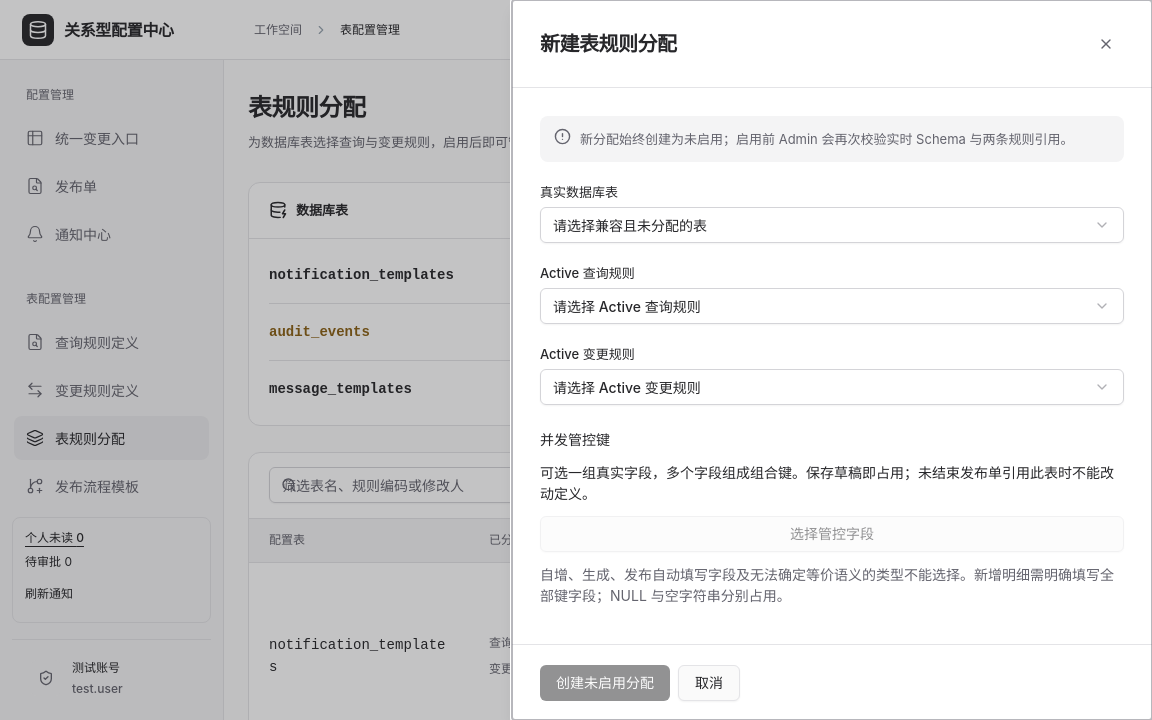
Test: 表规则分配页面 › 只从兼容未分配表和 Active Policy 创建 disabled 分配
Expected: the heading "新建表规则分配" is shown, [540, 30, 676, 58]
Select "message_templates · 消息模板" in the dropdown labelled "真实数据库表" at {"x": 832, "y": 225}, box [540, 207, 1124, 243]
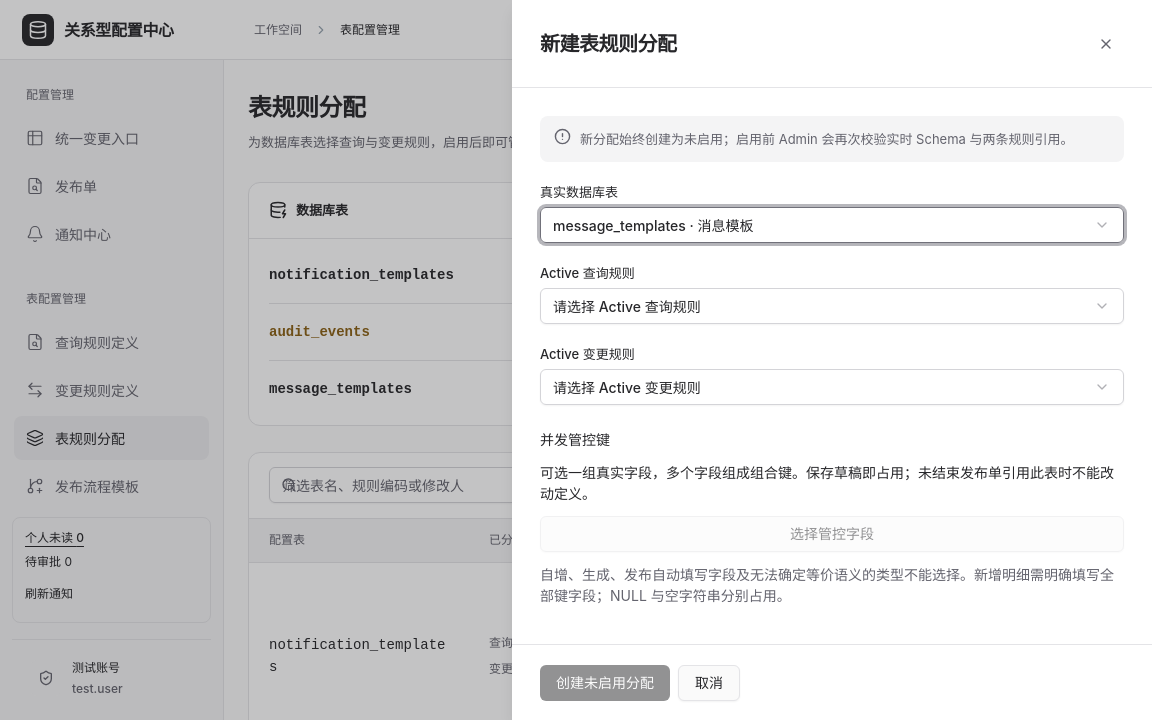
Select "standard_page_query_v1 · 标准分页" in the dropdown labelled "Active 查询规则" at {"x": 832, "y": 306}, box [540, 288, 1124, 324]
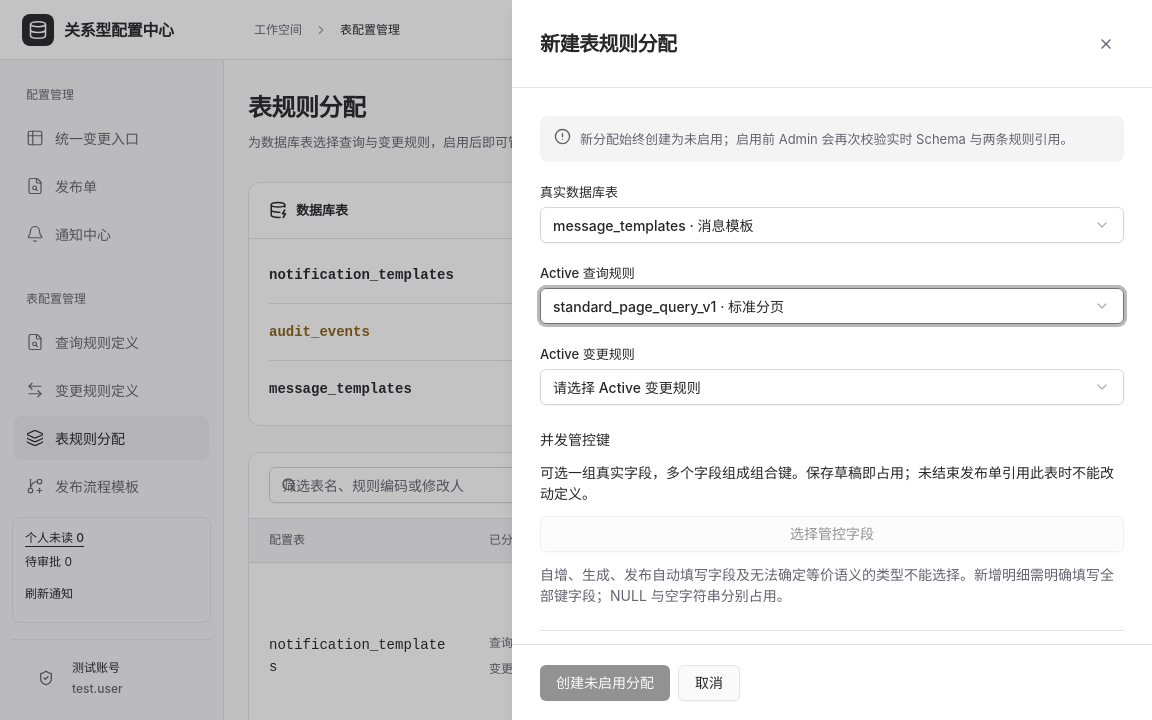
Select "standard_mutation_v1 · 标准变更" in the dropdown labelled "Active 变更规则" at {"x": 832, "y": 387}, box [540, 369, 1124, 405]
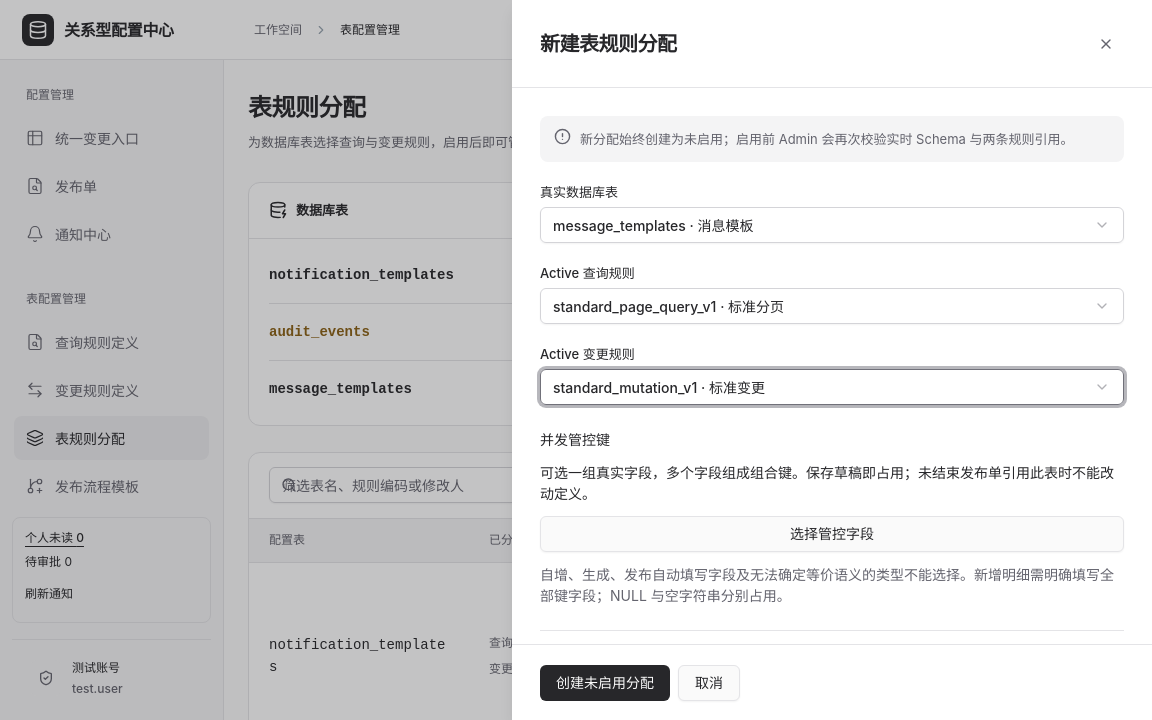
Click the button "创建未启用分配" at {"x": 605, "y": 682}, box [540, 664, 670, 700]
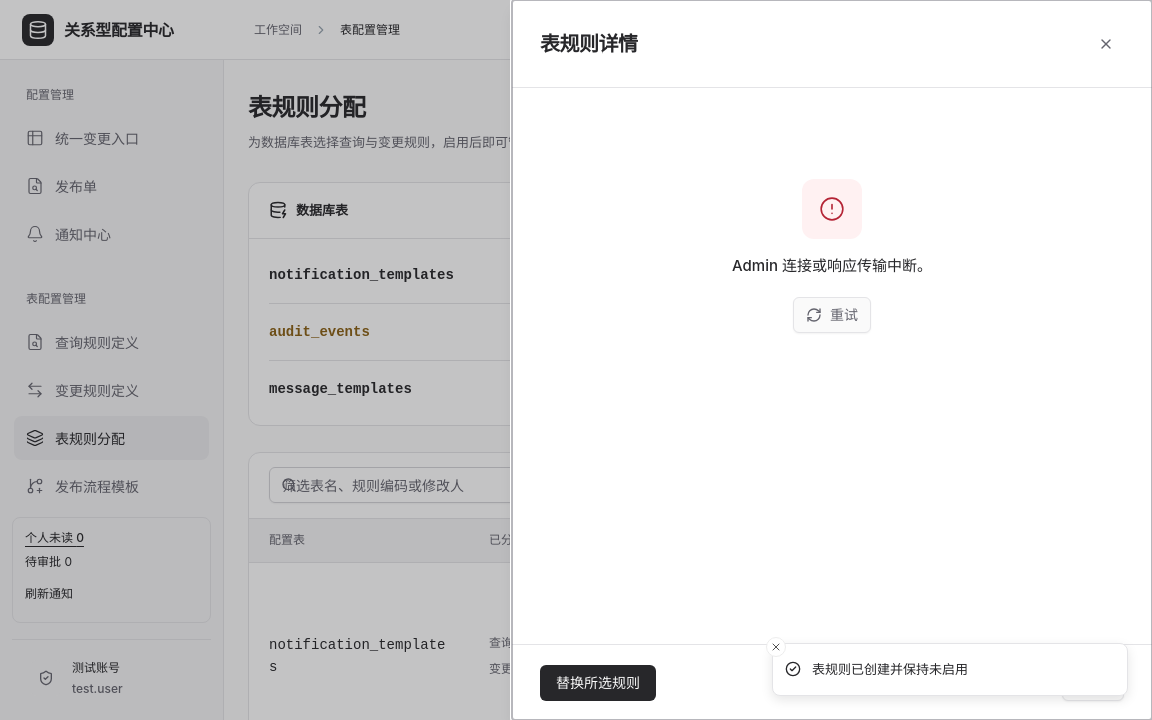
Now the text "表规则已创建并保持未启用" is shown, box [812, 660, 968, 679]
